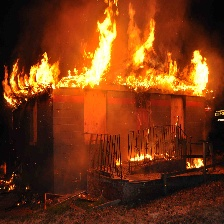fire: (1, 1, 223, 111), (115, 146, 212, 175), (1, 166, 25, 193)
